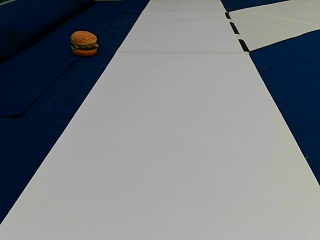burger: (70, 29, 98, 55)
